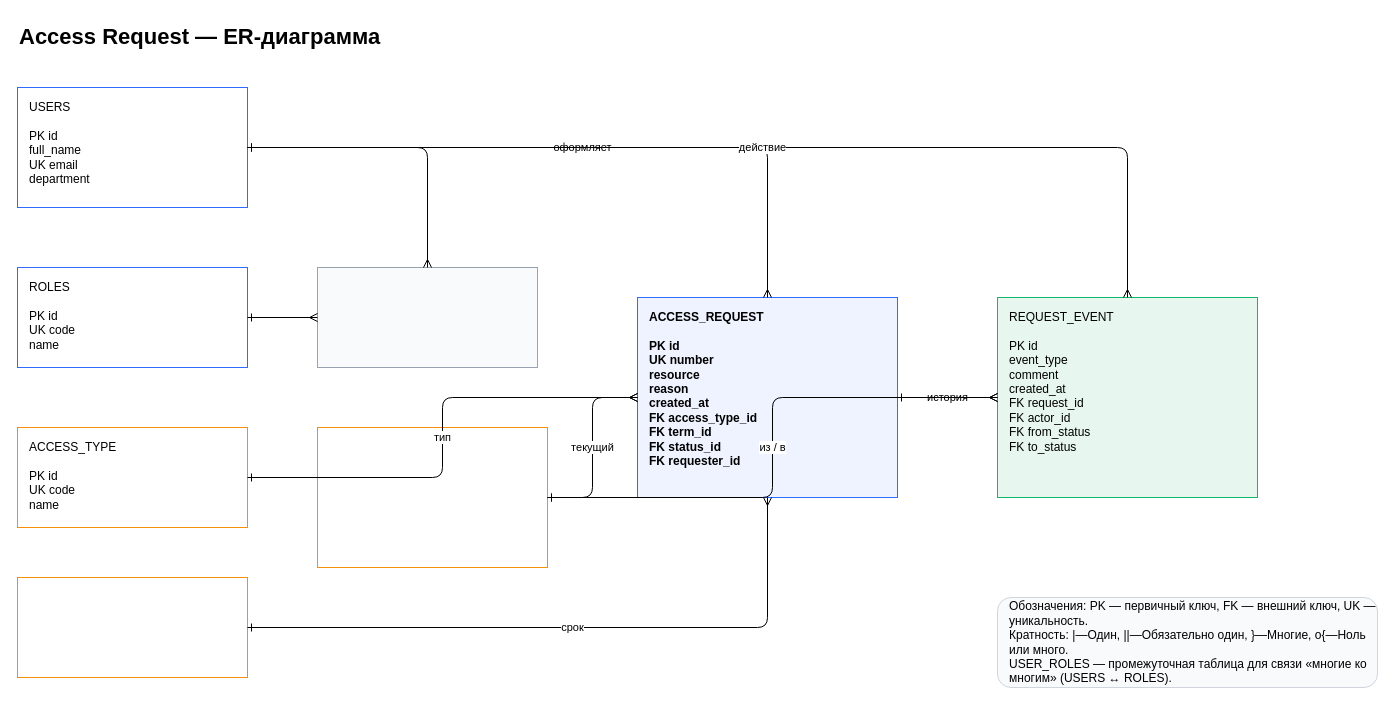
Some shapes in this 1395 by 705 pixel diagram are drawn without their labels. The centre of each missing label's shape, as x and y in pixels:
"STATUS PK id UK code name sort_order is_final" belongs at point (432, 497).
"TERM PK id UK name months" belongs at point (132, 627).
"USER_ROLES PK,FK user_id PK,FK role_id" belongs at point (427, 317).
